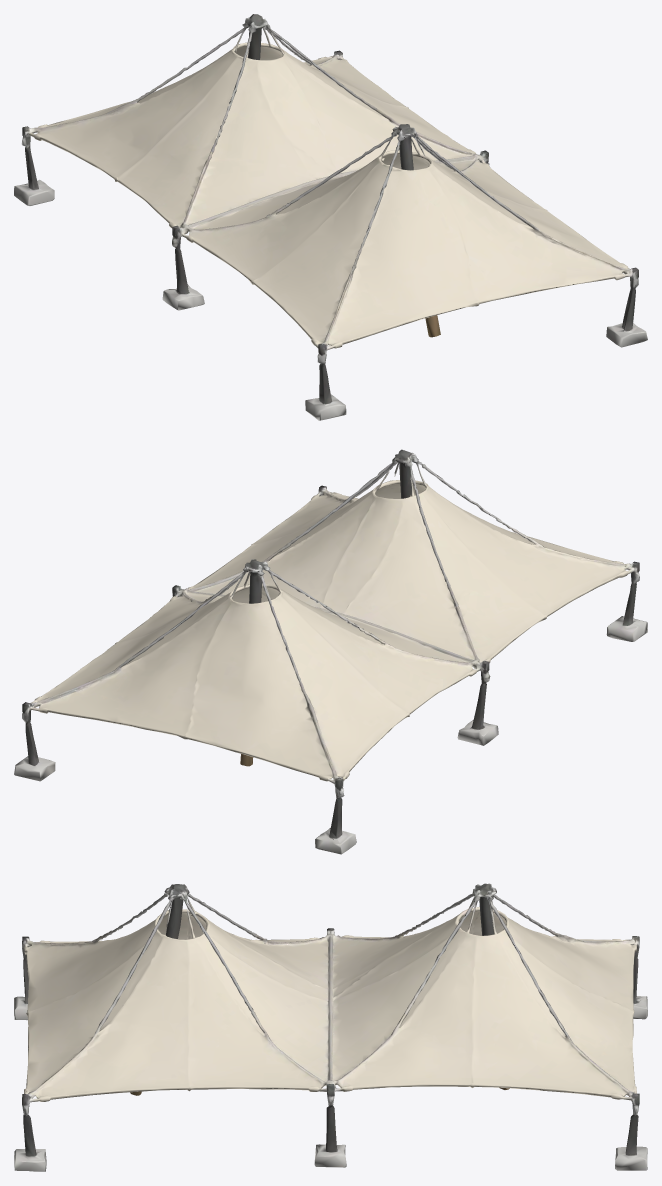
The model's file is tensile-canopy.glb.
3 views of the same model, one above another, from view 1: azimuth 30°, elevation 25°; view 2: azimuth 150°, elevation 25°; view 3: azimuth 270°, elevation 25° (orthographic). The views are drawn at different scales.
Parts seen in each view (by area): view 1: tripo_node_b58a9aac-3c3a-4055-86f2-d4f647ee6281; view 2: tripo_node_b58a9aac-3c3a-4055-86f2-d4f647ee6281; view 3: tripo_node_b58a9aac-3c3a-4055-86f2-d4f647ee6281.
Boxes of the visible parts, x1,y1,x2,y2 form: tripo_node_b58a9aac-3c3a-4055-86f2-d4f647ee6281: [14, 14, 647, 420]; tripo_node_b58a9aac-3c3a-4055-86f2-d4f647ee6281: [14, 449, 647, 854]; tripo_node_b58a9aac-3c3a-4055-86f2-d4f647ee6281: [14, 883, 647, 1171].
Bounding box in the file's own units: 0.6177 × 0.3578 × 1.
Materials: 1 (1 with a texture image).
